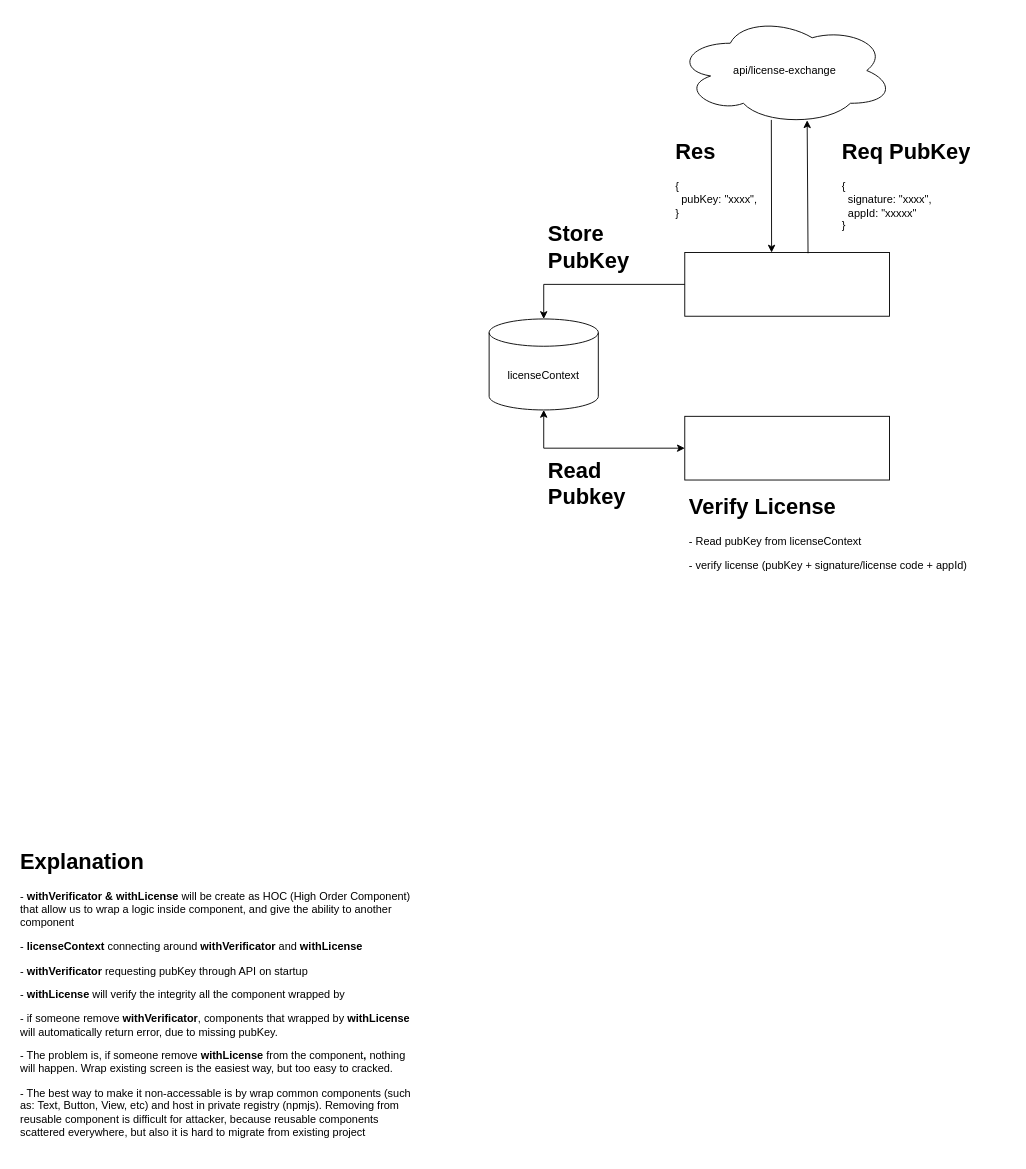
This 1026x1169 diagram has some shape labels left out. The shapes that lost their labels are listed below. From the top down, each one's centre as x and y in pixels, then its label:
(x=787, y=284): Entry Point withVerificator(App.tsx)
(x=787, y=447): Screen Home withLicense(Home.tsx)
